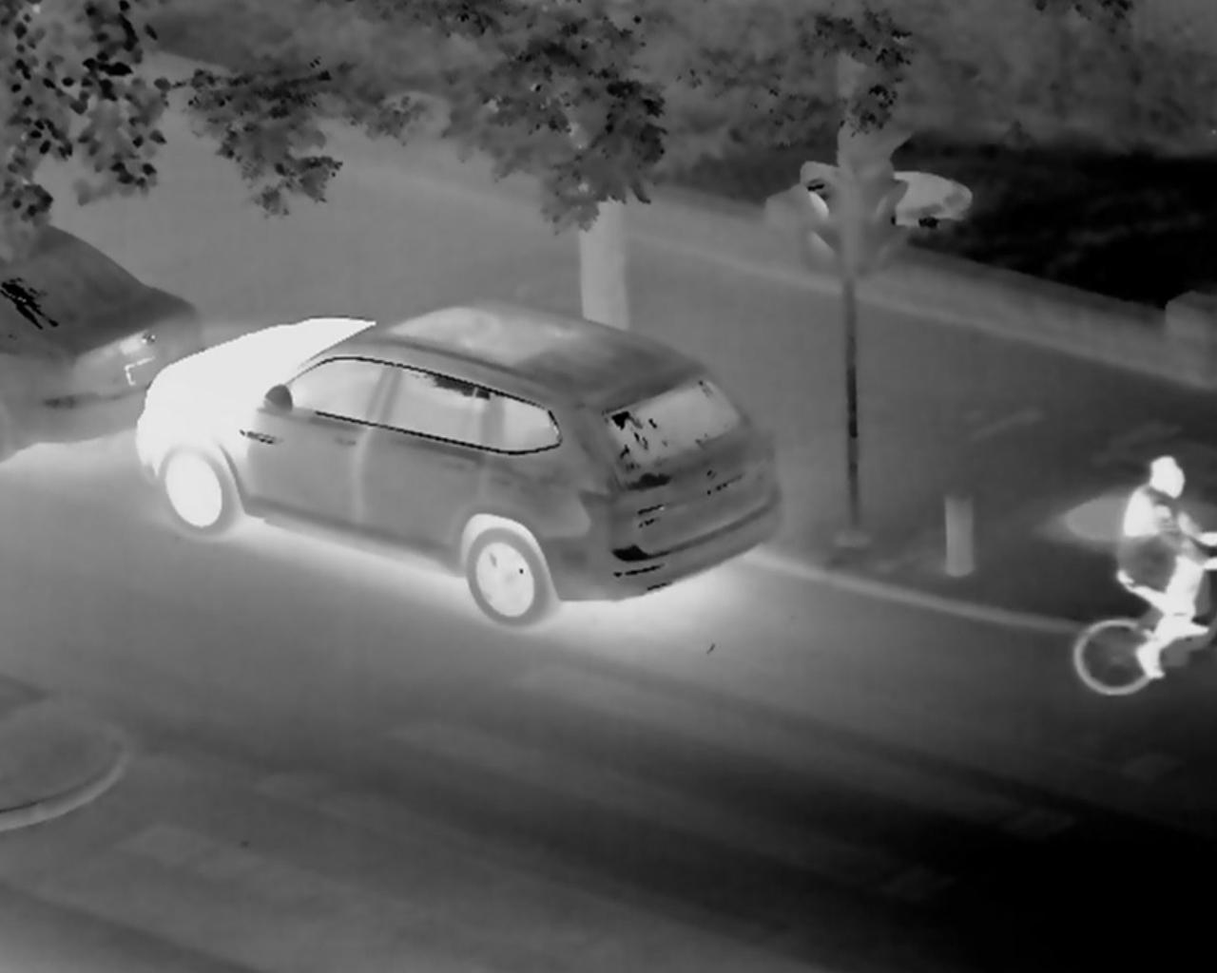person: (1101, 446, 1213, 655)
